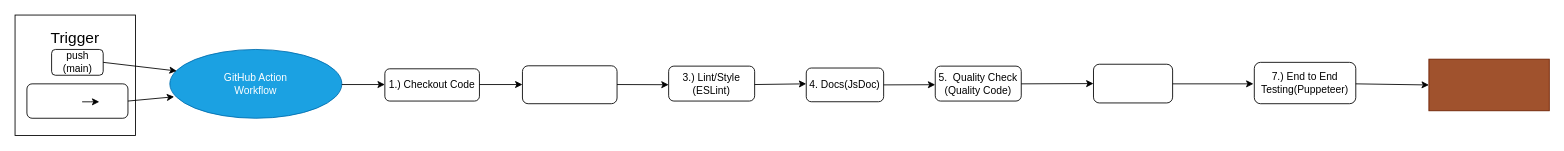
Image size: 1564x151. Some labels were removed from this diagram. The shapes that lost their labels are listed below. From the top down, each one's centre as x and y in pixels, then its label:
At (x=77, y=100): "PR(feature main)".
At (x=569, y=84): "2.) Install Node 20 & fetch dependencies".
At (x=1133, y=83): "6.) Tests (Jest)".
At (x=1488, y=84): "Result (Status badge / PR check".
